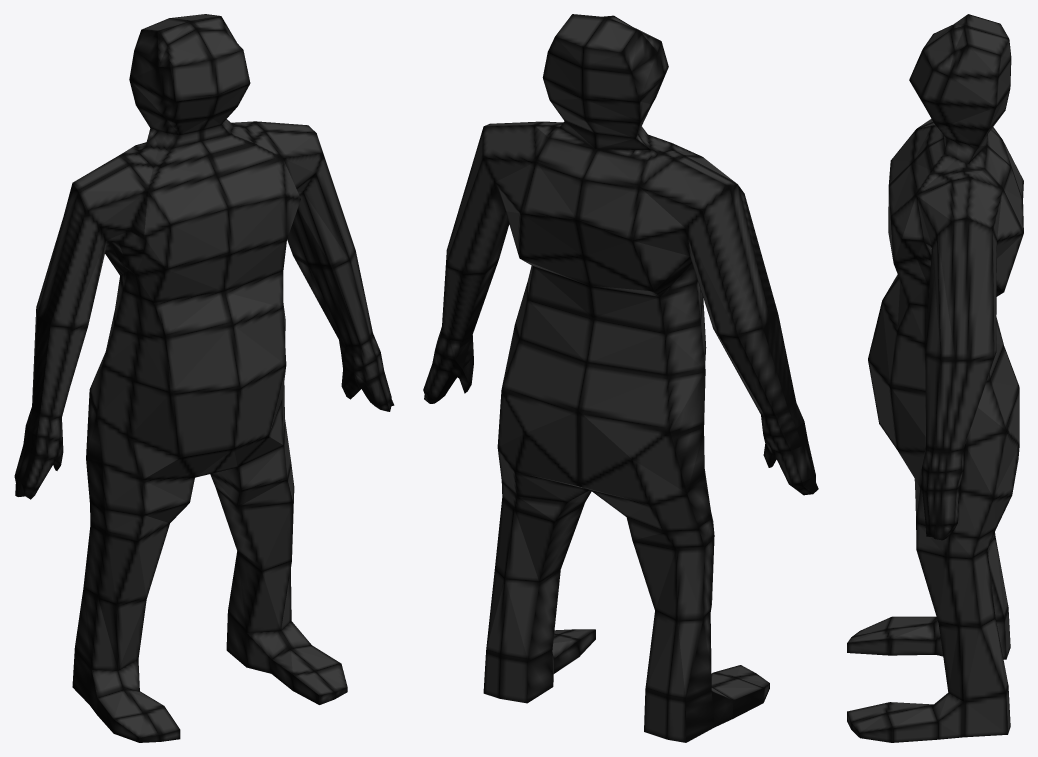
File: test_char.obj
3 renders of one model, left to right at view 1: azimuth 30°, elevation 25°; view 2: azimuth 150°, elevation 25°; view 3: azimuth 270°, elevation 25°, orthographic. The views are drawn at different scales.
Parts seen in each view (by area): view 1: Cube.032_Cube.005; view 2: Cube.032_Cube.005; view 3: Cube.032_Cube.005.
Part boxes in pixels (box(x1,y1,x2,y2)): Cube.032_Cube.005: box(14, 14, 394, 742); Cube.032_Cube.005: box(423, 14, 818, 742); Cube.032_Cube.005: box(847, 14, 1023, 742).
Bounding box in the file's own units: 2.36 × 3.95 × 0.9586.
Materials: 1 (1 with a texture image).
